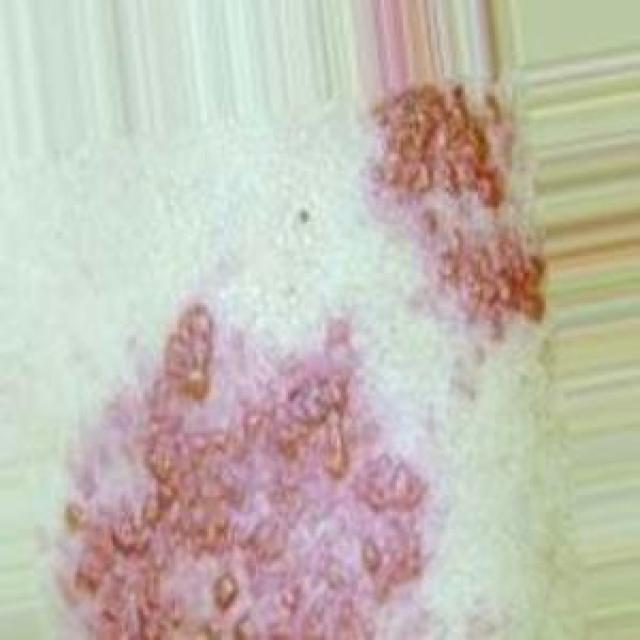Shingles: (54, 301, 436, 639), (364, 79, 544, 343)
